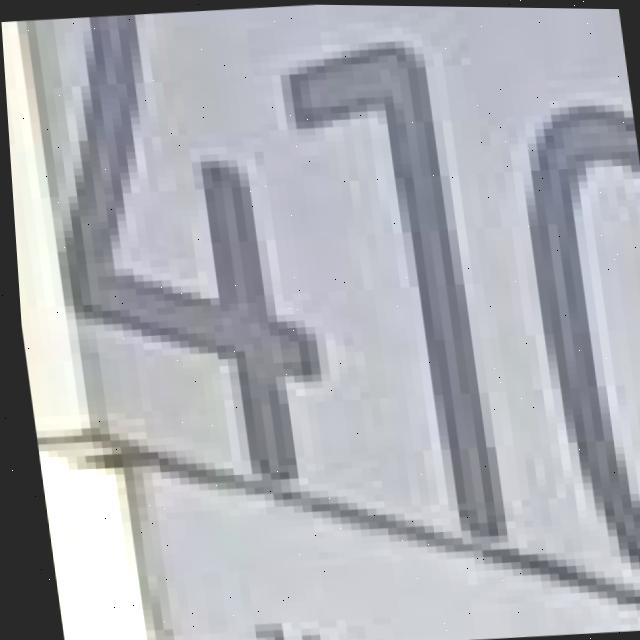character: (25, 2, 356, 506), (272, 28, 526, 564), (492, 87, 640, 601)
